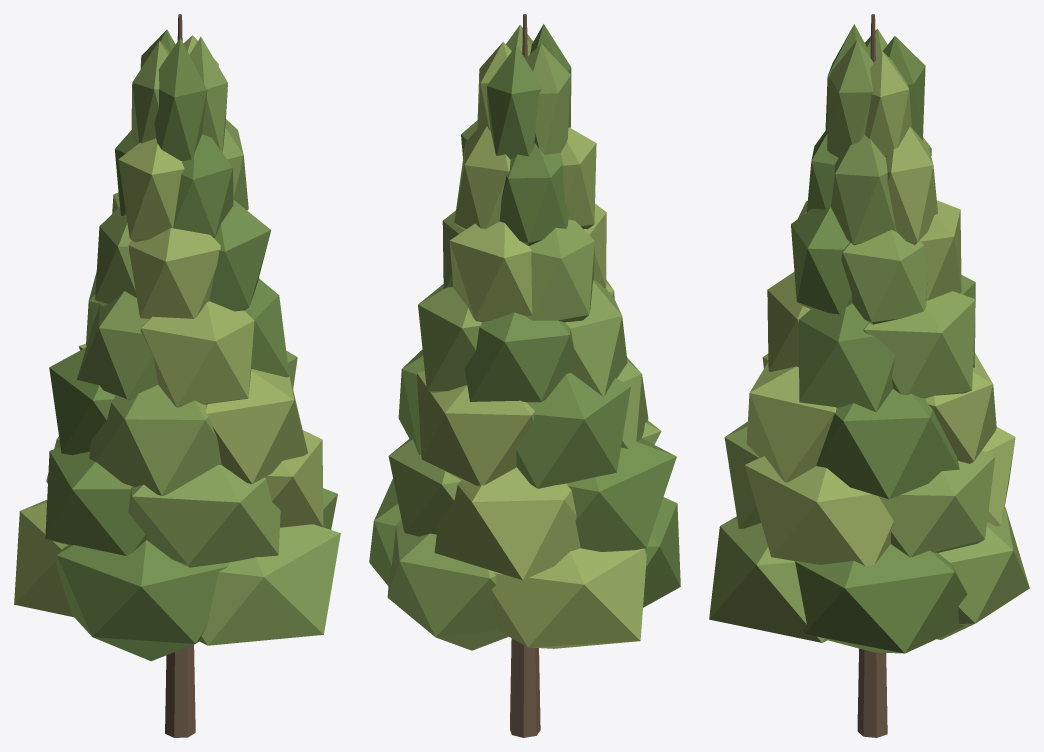
The model's file is ENV_Spa_Conifer_01.glb.
The picture shows the model from 3 angles, left to right: view 1: azimuth 30°, elevation 25°; view 2: azimuth 150°, elevation 25°; view 3: azimuth 270°, elevation 25°; orthographic projection.
Visible parts, largest first — view 1: ENV_Spa_Conifer_01; view 2: ENV_Spa_Conifer_01; view 3: ENV_Spa_Conifer_01.
Part boxes in pixels (box(x1,y1,x2,y2)): ENV_Spa_Conifer_01: box(14, 14, 340, 737); ENV_Spa_Conifer_01: box(369, 14, 680, 737); ENV_Spa_Conifer_01: box(709, 14, 1029, 737).
Bounding box in the file's own units: 6.65 × 16 × 6.49.
